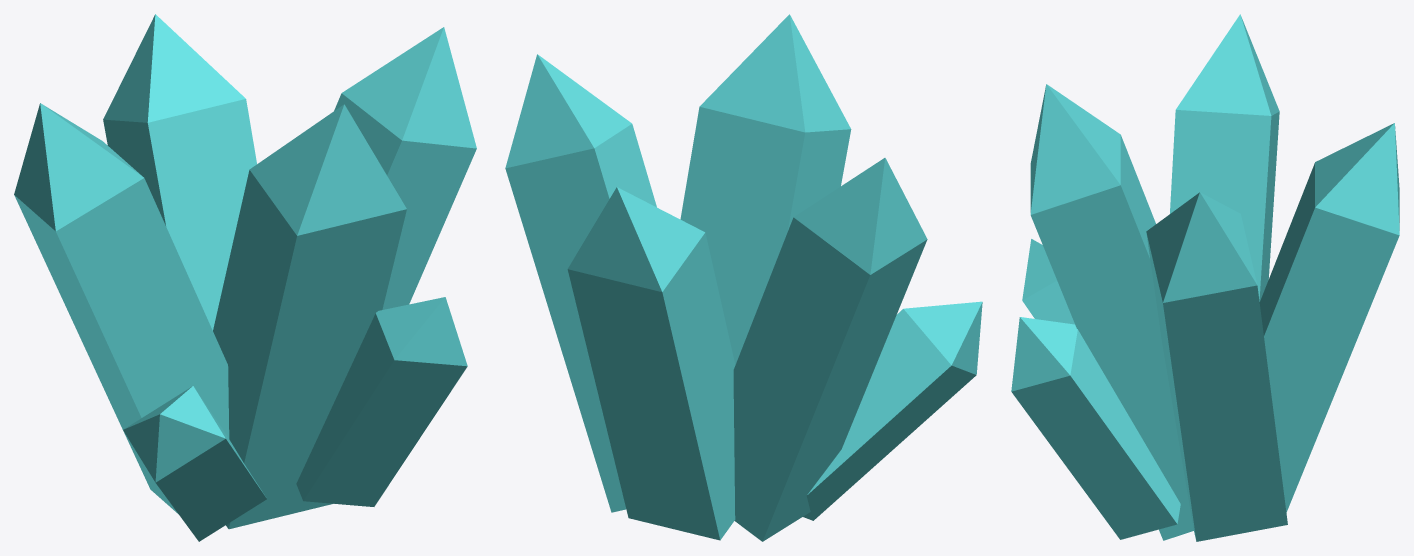
File: Cristaux_Asset_3.FBX
3 views of the same model, side by side, from view 1: azimuth 30°, elevation 25°; view 2: azimuth 150°, elevation 25°; view 3: azimuth 270°, elevation 25° (orthographic). The views are drawn at different scales.
Visible parts, largest first — view 1: Box328; view 2: Box328; view 3: Box328.
Boxes of the visible parts, x1,y1,x2,y2 form: Box328: (14,14,476,541); Box328: (505,14,982,541); Box328: (1011,14,1399,541).
Bounding box in the file's own units: 0.9329 × 1 × 0.8087.
